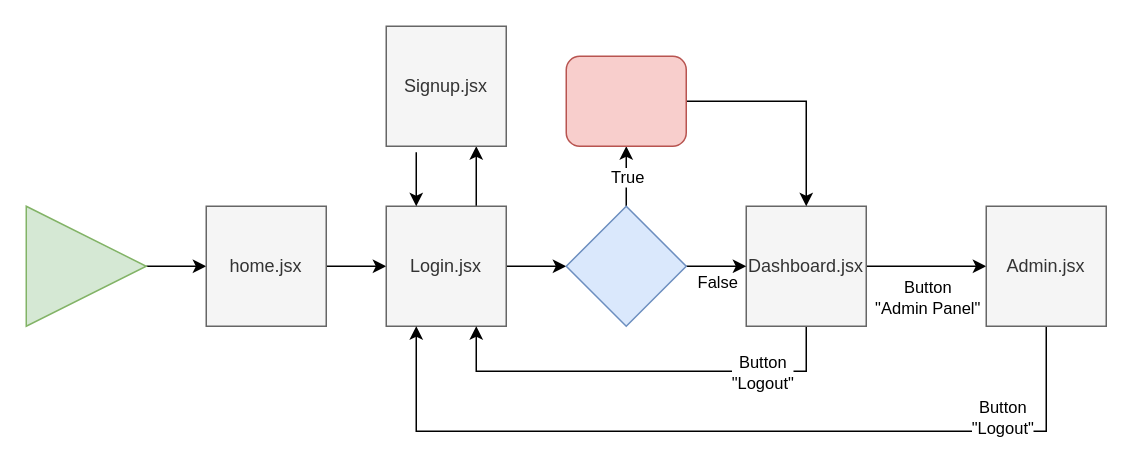
This 1133x470 diagram has some shape labels left out. Each missing label, with the box of its shape:
is_admin: (565, 205, 686, 326)
Render "Admin Panel" Button: (565, 55, 686, 146)
Start: (25, 205, 146, 326)
